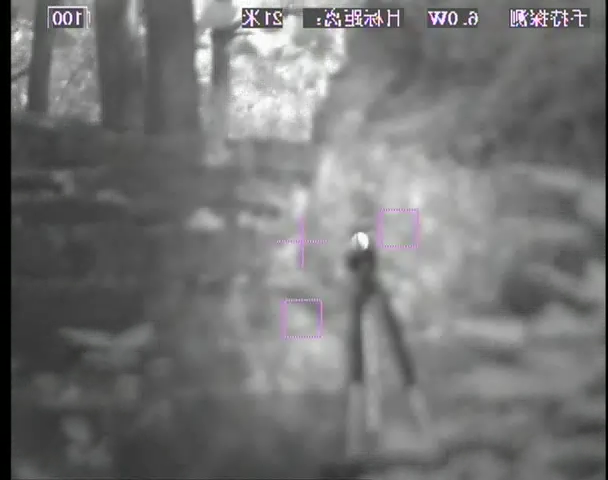my: (346, 229, 372, 255)
